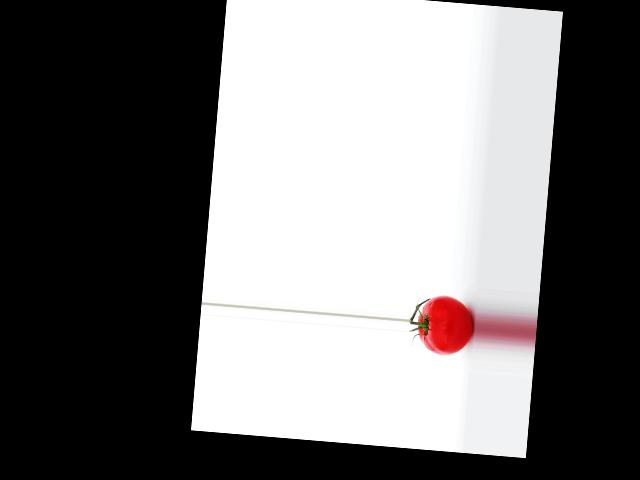tomato: (415, 294, 475, 358)
